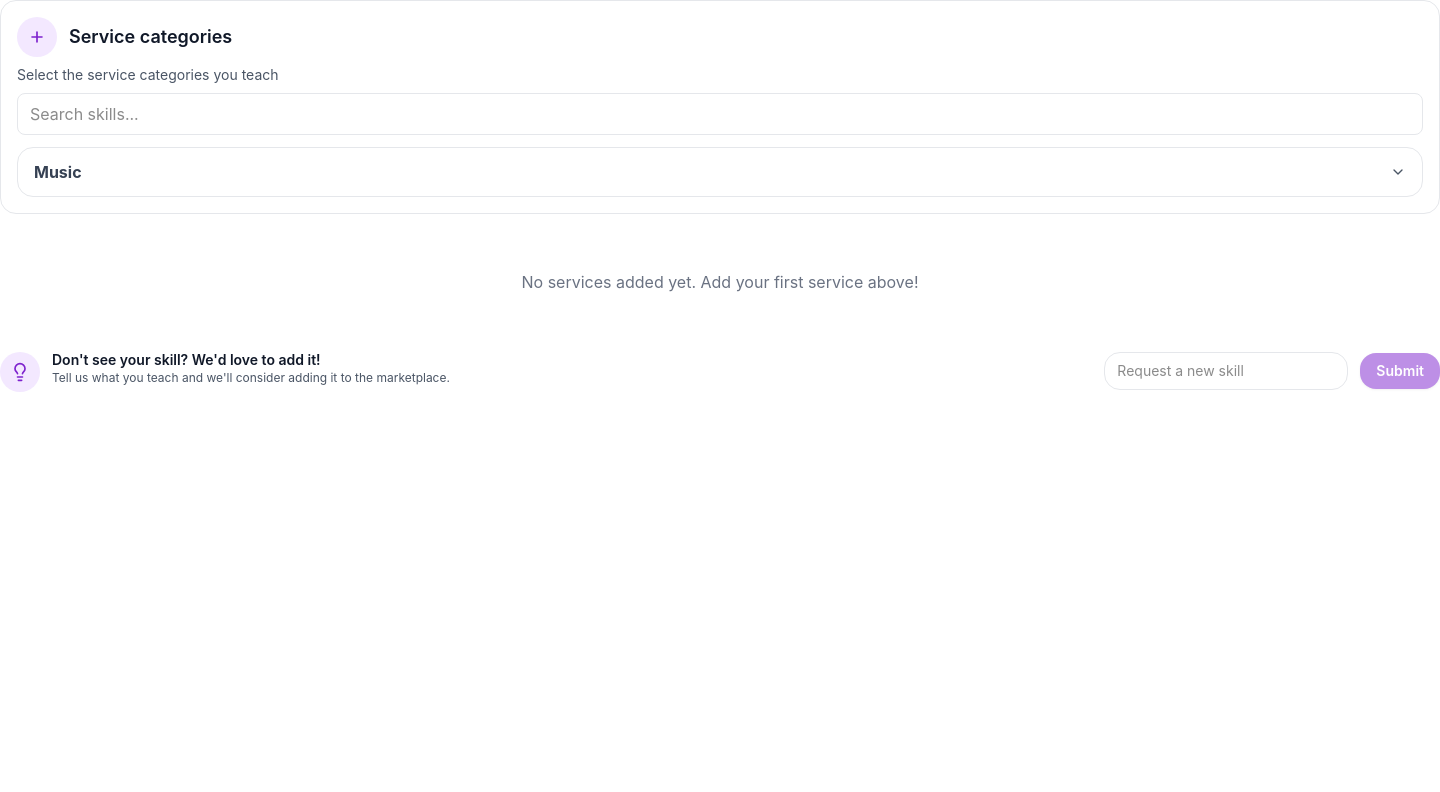
Scenario: SkillsPricingInline › shows an error when removing a skill before profile loads
This screenshot has width=1440, height=792.
Click the button "Music" at (58, 172), box [18,148,1422,196]
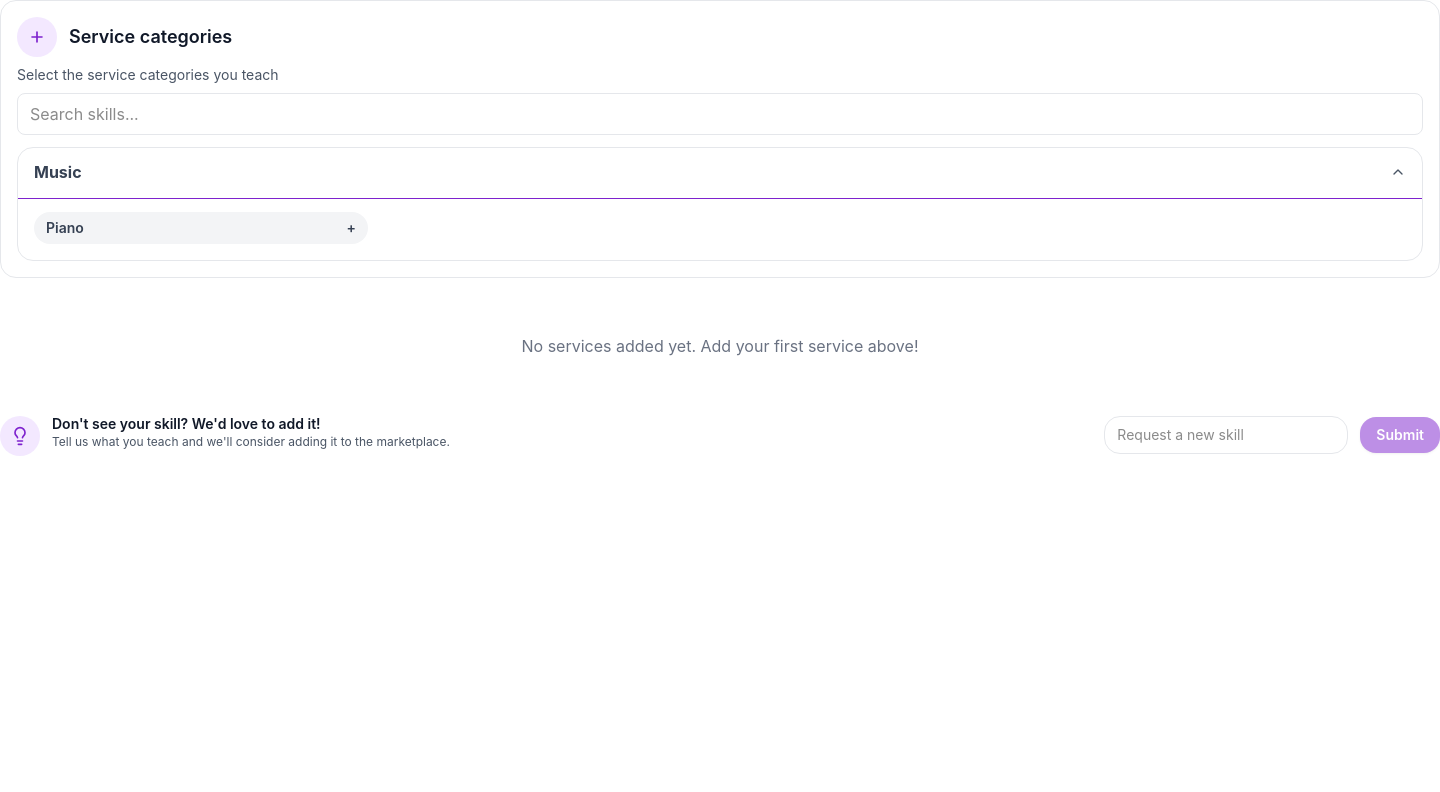
Click the button "Piano +" at (65, 228), box [34,212,368,244]
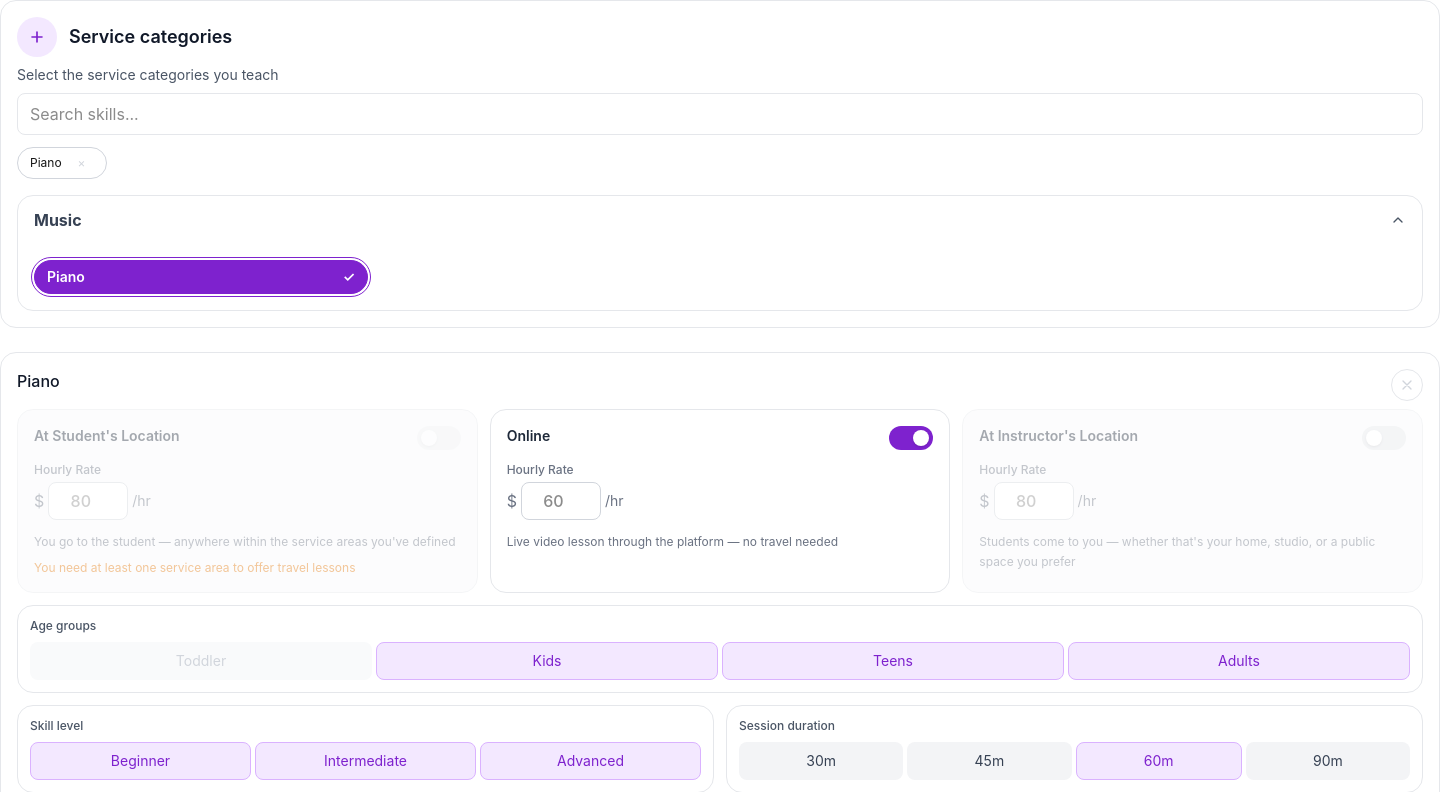
Click the button named "remove skill" at (1407, 385), box [1391,369,1423,401]
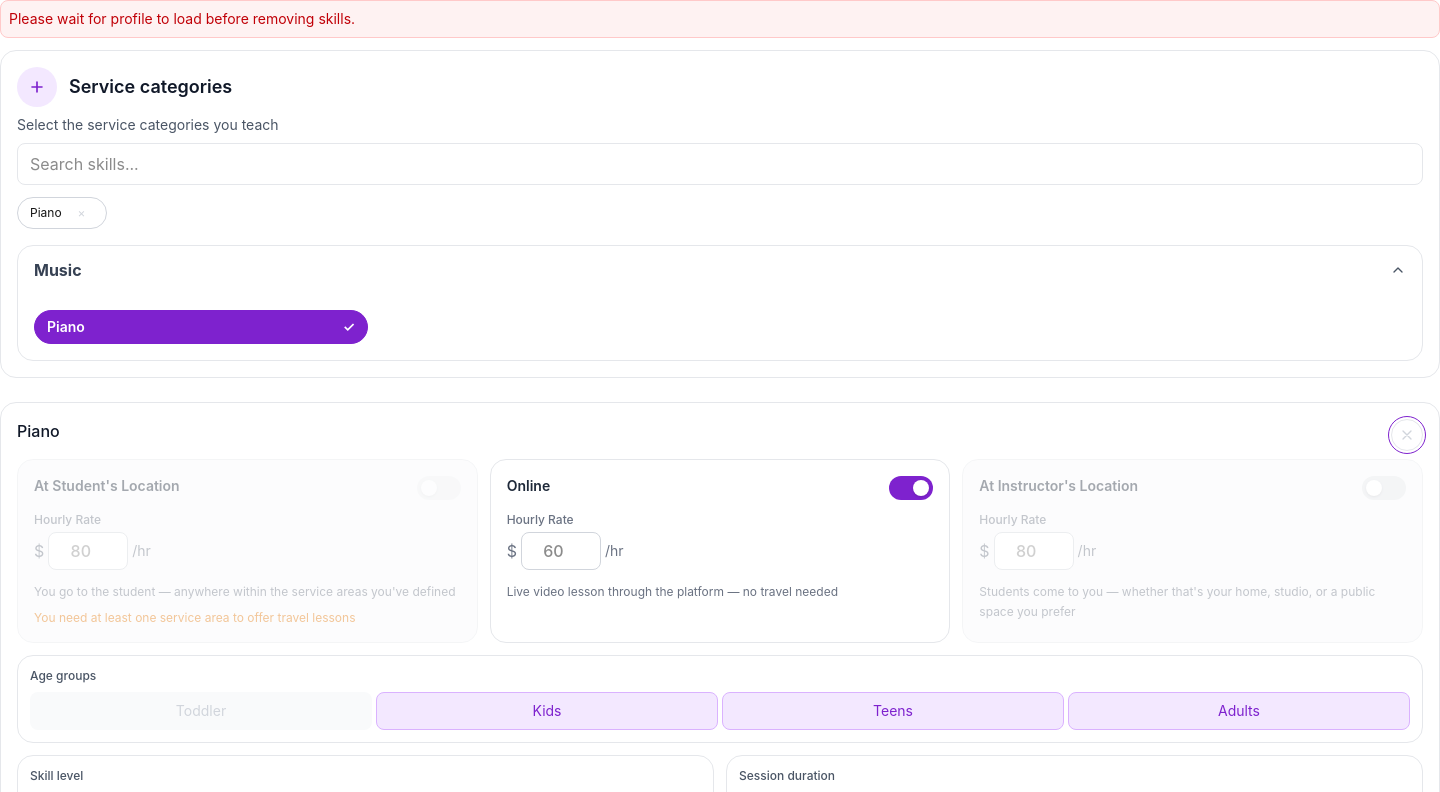
Now the text "Please wait for profile to load before removing skills." is shown, box [0,0,1439,38]
